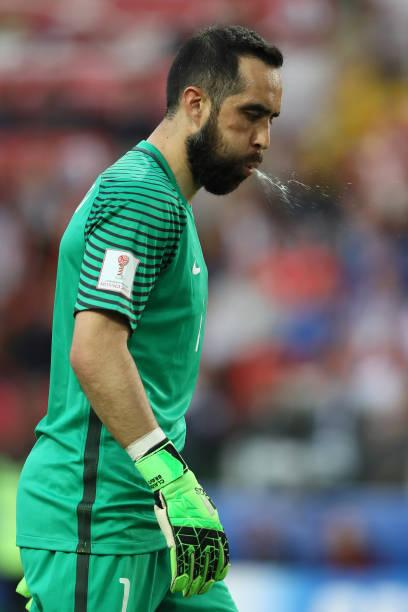Spitting: (119, 0, 342, 232)
